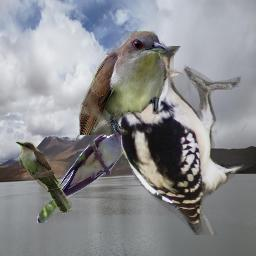Cuckoo: (37, 130, 145, 223), (79, 31, 169, 135), (15, 140, 72, 214)
Woodpecker: (121, 46, 244, 235)
